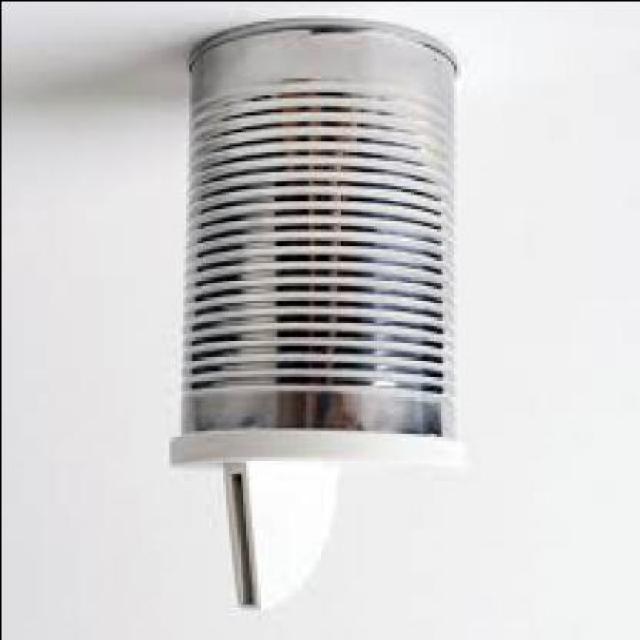METAL: (182, 23, 452, 452)
